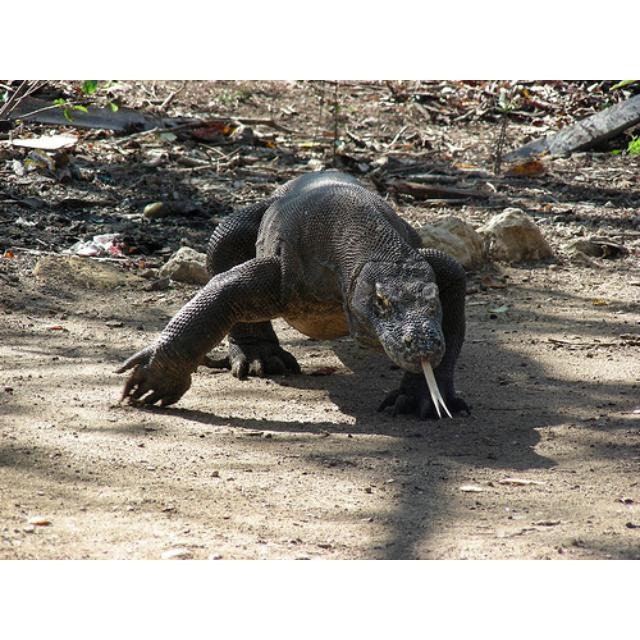KomodoDragon: (111, 168, 466, 416)
